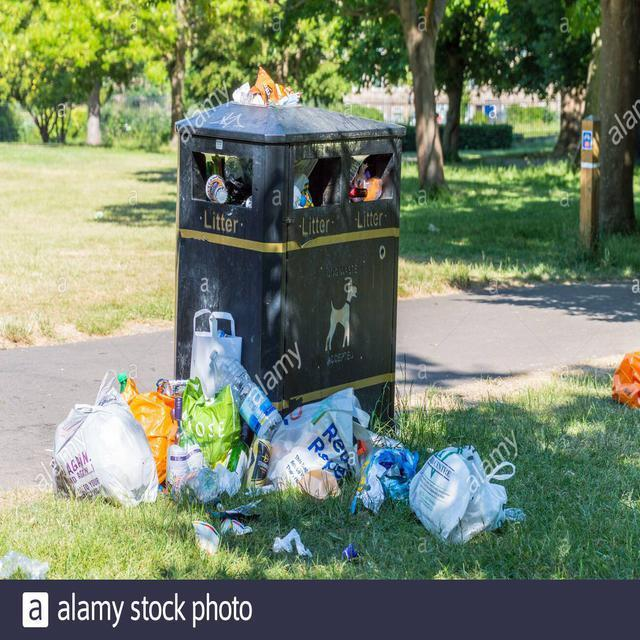garbage: (207, 412, 505, 545), (67, 324, 273, 494), (284, 171, 346, 205), (200, 171, 233, 207)
